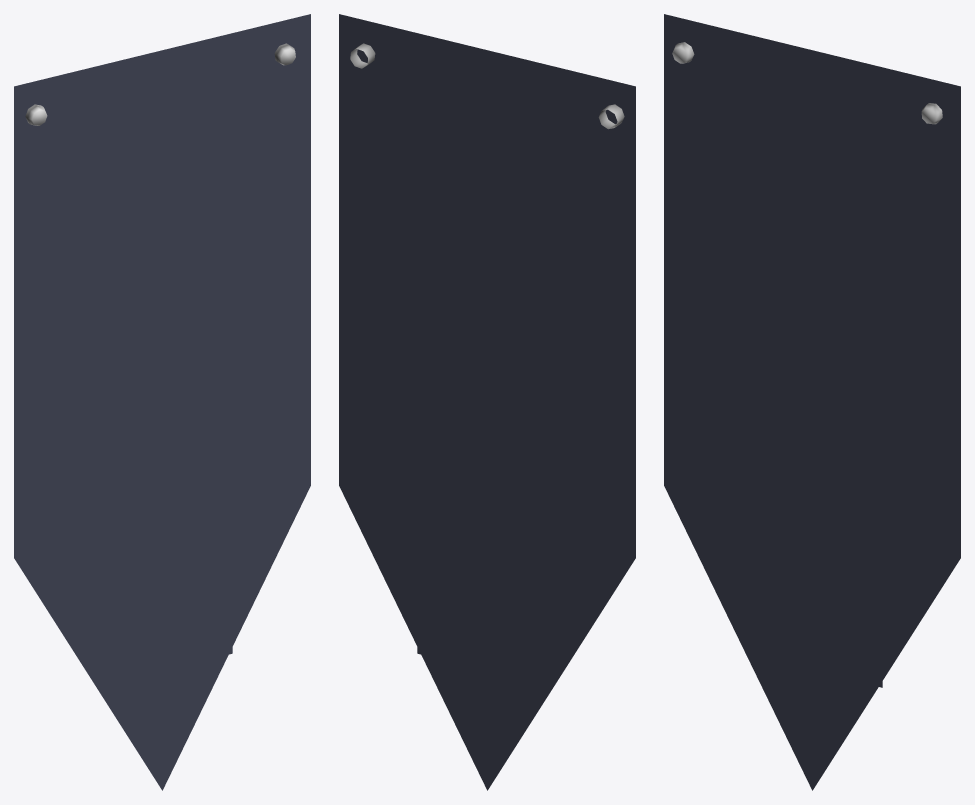
File: pq_banniere_2_toile.glb
3 renders of one model, left to right at view 1: azimuth 30°, elevation 25°; view 2: azimuth 150°, elevation 25°; view 3: azimuth 330°, elevation 25°, orthographic.
Parts seen in each view (by area): view 1: Banner_2_Cloth; view 2: Banner_2_Cloth; view 3: Banner_2_Cloth.
Boxes of the visible parts, box(x1,y1,x2,y2) form: Banner_2_Cloth: box(14, 14, 310, 790); Banner_2_Cloth: box(339, 14, 635, 790); Banner_2_Cloth: box(664, 14, 960, 790).
Size of the model in its own units: 0.8102 by 1.93 by 0.0568.
